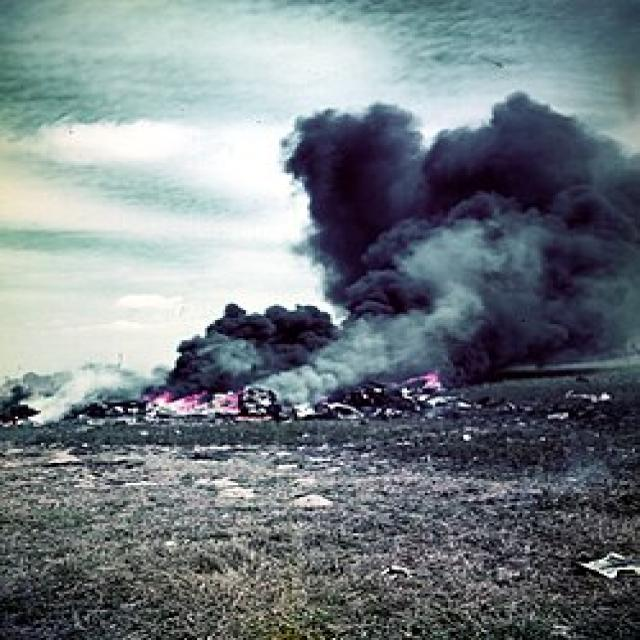explosion: (86, 76, 640, 455)
